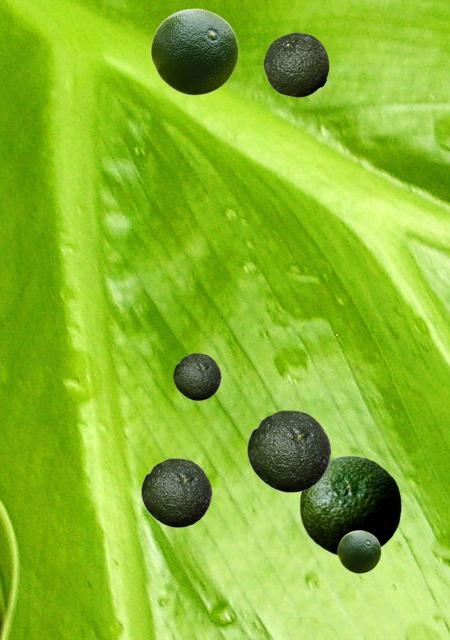calamansi: (299, 455, 400, 555), (150, 8, 238, 94), (247, 410, 330, 491), (141, 458, 211, 526), (263, 32, 328, 96), (173, 353, 220, 399), (337, 530, 380, 572)
